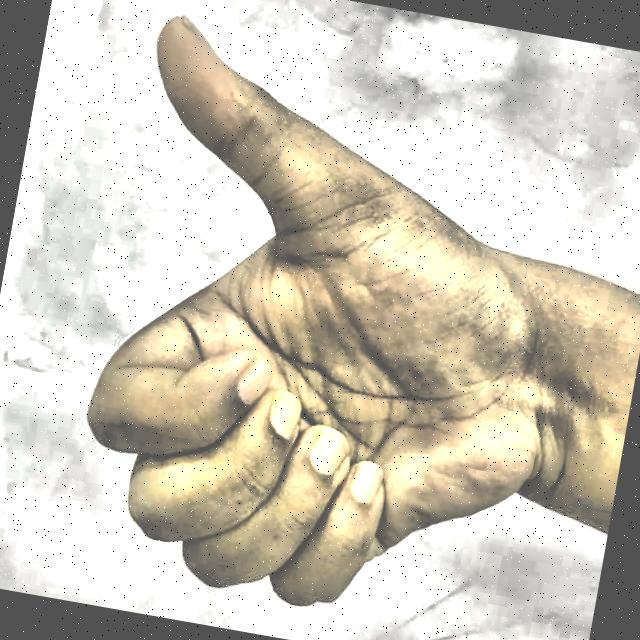Do: (31, 0, 606, 640)
